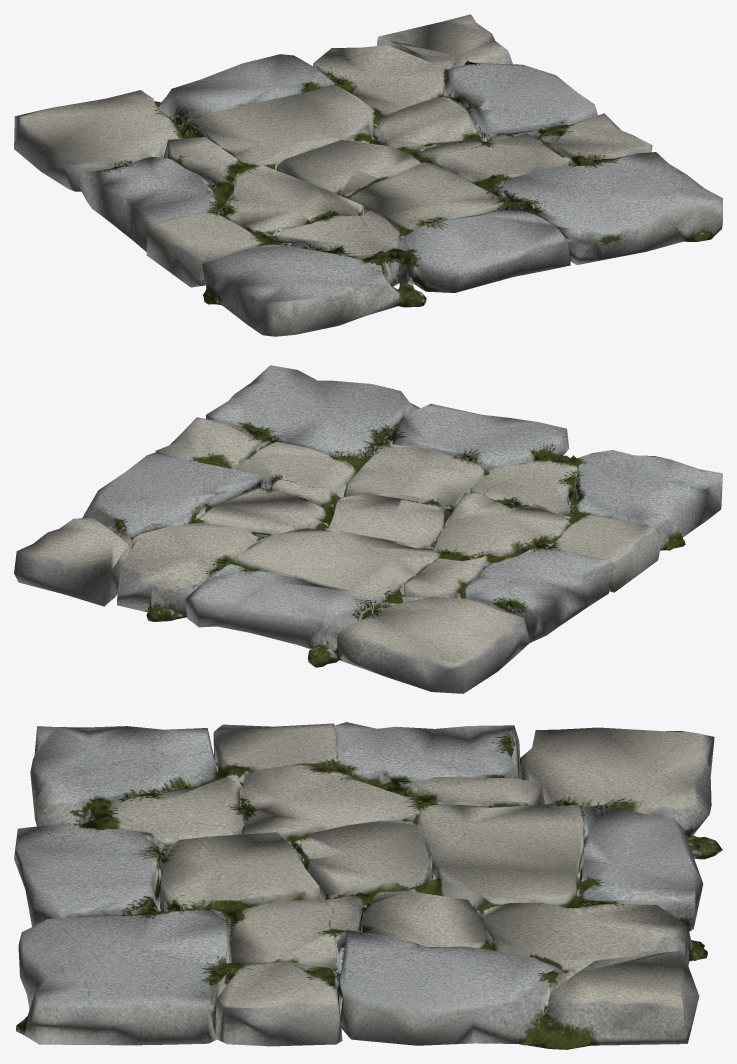
Rendered from terrain_ruin.glb.
The picture shows the model from 3 angles, top to bottom: view 1: azimuth 30°, elevation 25°; view 2: azimuth 150°, elevation 25°; view 3: azimuth 270°, elevation 25°; orthographic projection. The views are drawn at different scales.
Visible parts, largest first — view 1: Mesh_0.001; view 2: Mesh_0.001; view 3: Mesh_0.001.
Part boxes in pixels (box(x1,y1,x2,y2)): Mesh_0.001: box(14, 14, 722, 336); Mesh_0.001: box(14, 365, 722, 693); Mesh_0.001: box(14, 722, 722, 1049).
Bounding box in the file's own units: 1.87 × 0.1394 × 1.91.
1 material, 1 textured.
